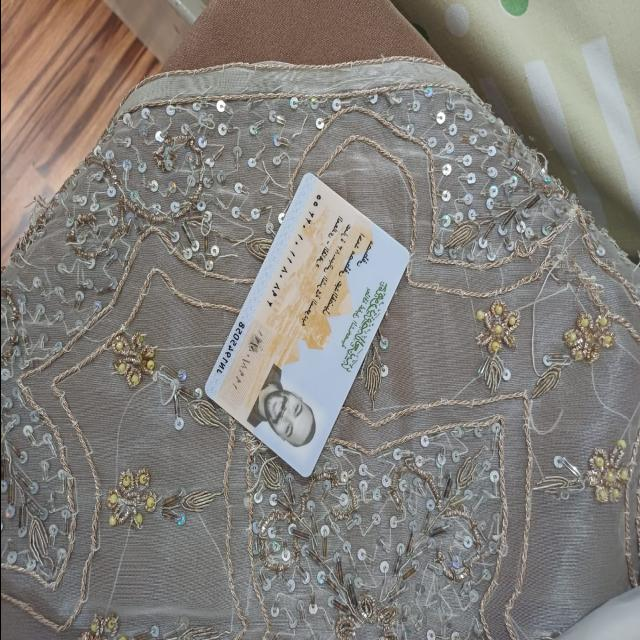ID-cards: (190, 155, 422, 489)
